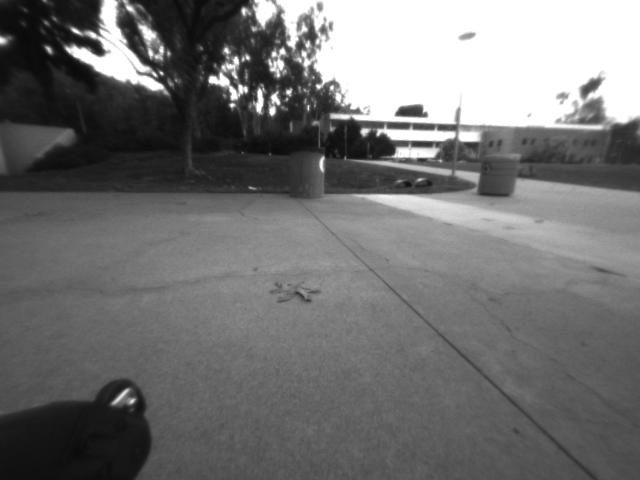trashcan: (284, 143, 331, 206), (477, 151, 521, 199)
